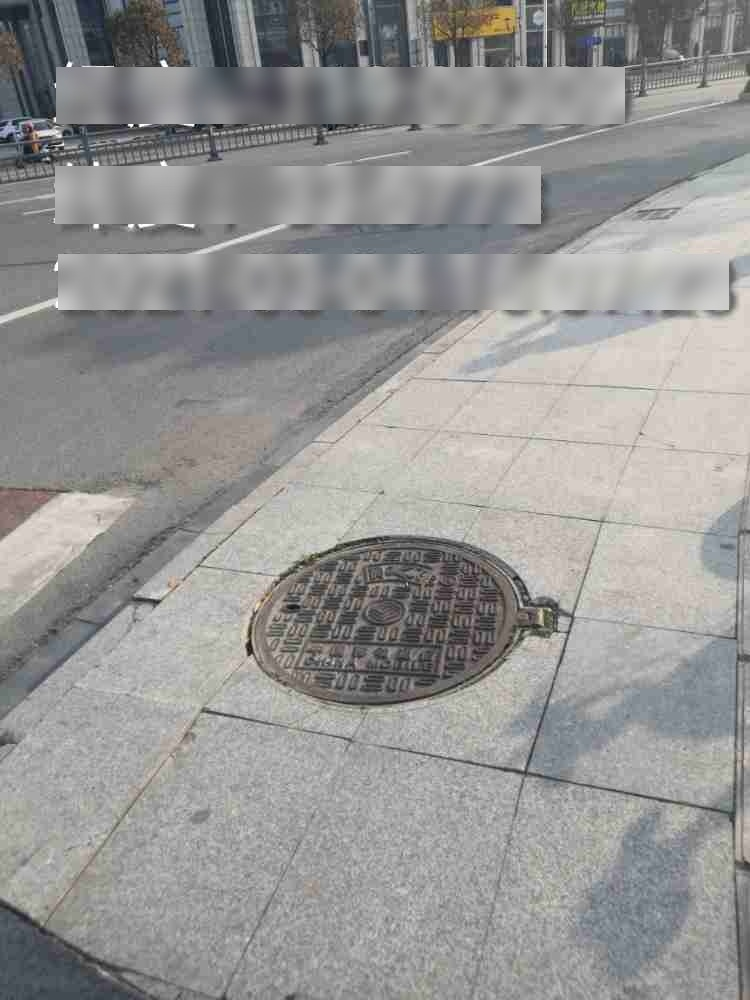good: (248, 534, 550, 705)
